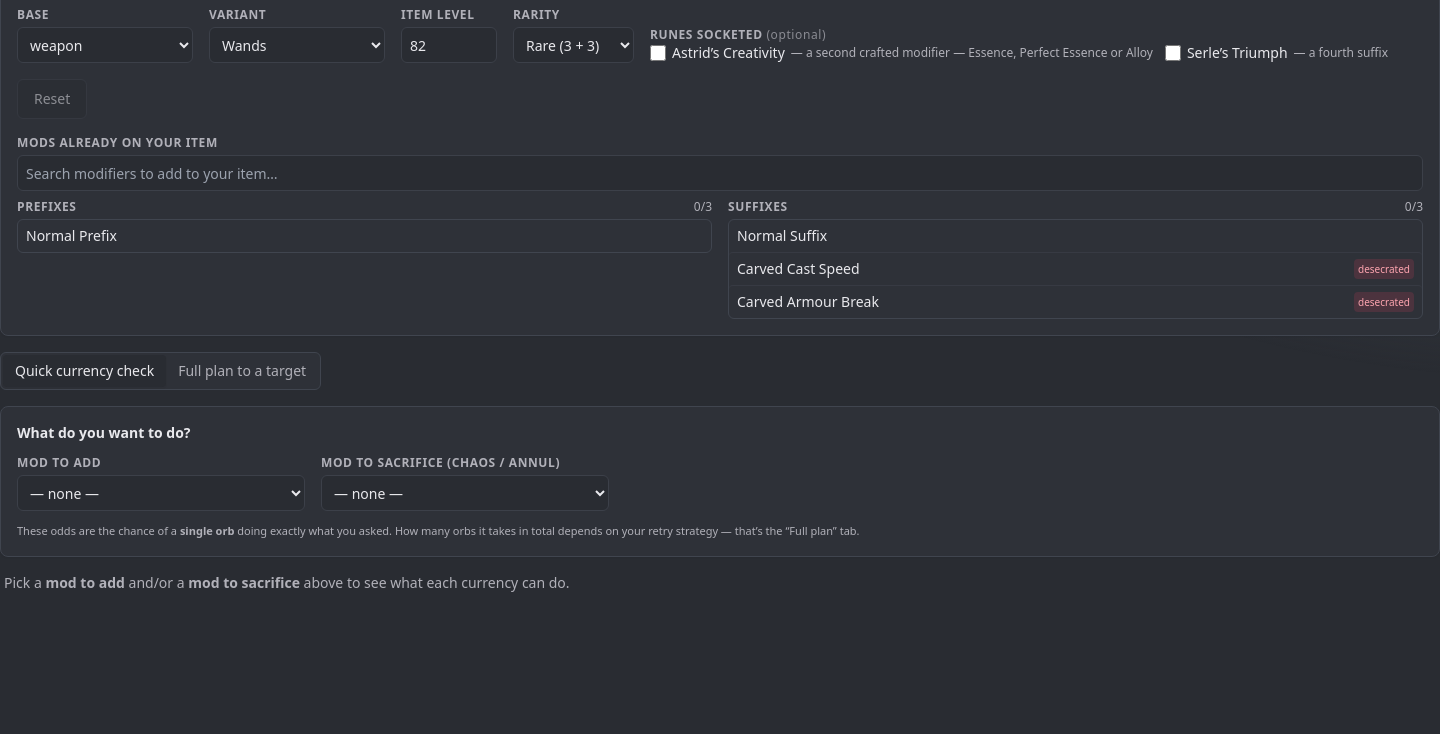
Test: ItemActions — why Compute plan is unavailable › enables the button once a target is chosen
Expected: the field with placeholder "Search modifiers to add to your item…" is shown, [17,155,1423,191]
Click the button "Full plan to a target": (242, 371) [166,355,318,387]
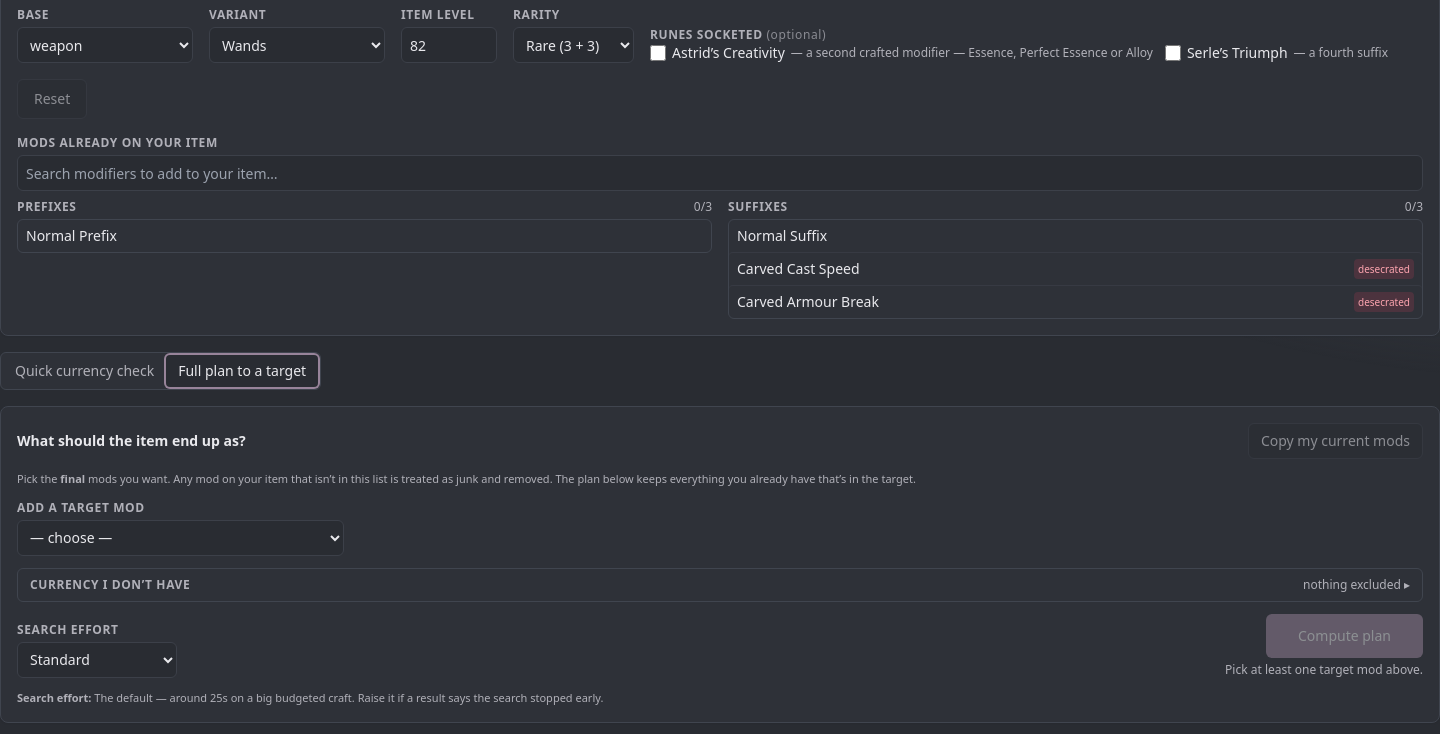
Select "P · Normal Prefix" in the dropdown labelled "Add a target mod": (180, 538) [17,520,344,556]
(page scrolled)
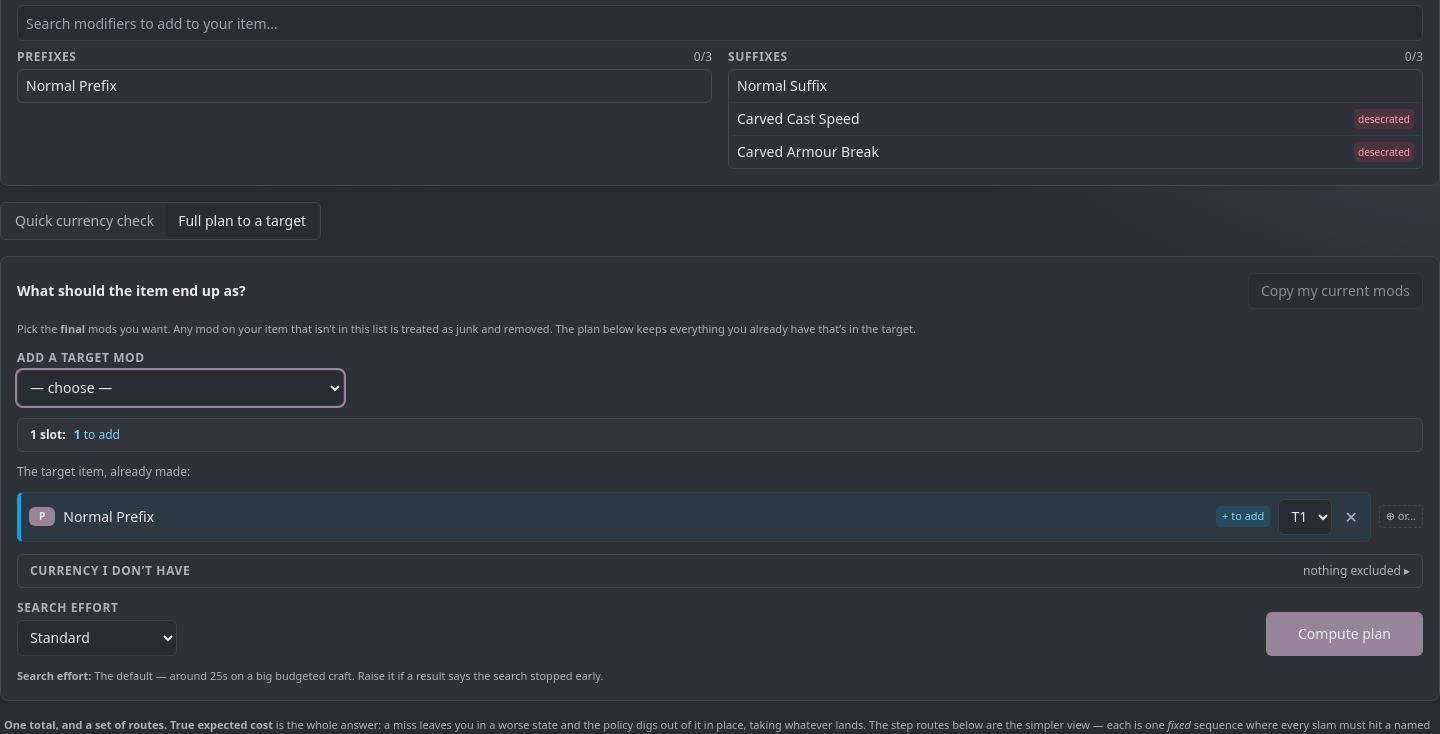
Expected: the button "Compute plan" is enabled, [1266,612,1423,656]
Expected: the text "Pick at least one target mod" is gone
